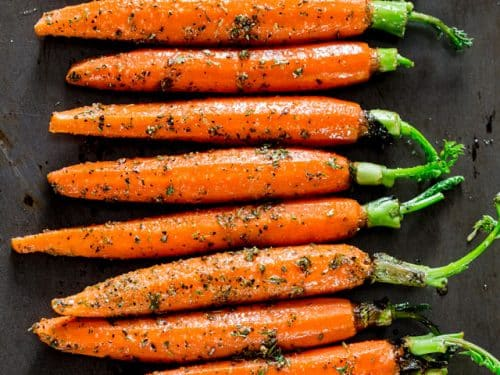carrot: (10, 200, 402, 254), (46, 149, 450, 200), (48, 97, 443, 145), (63, 43, 416, 89)
